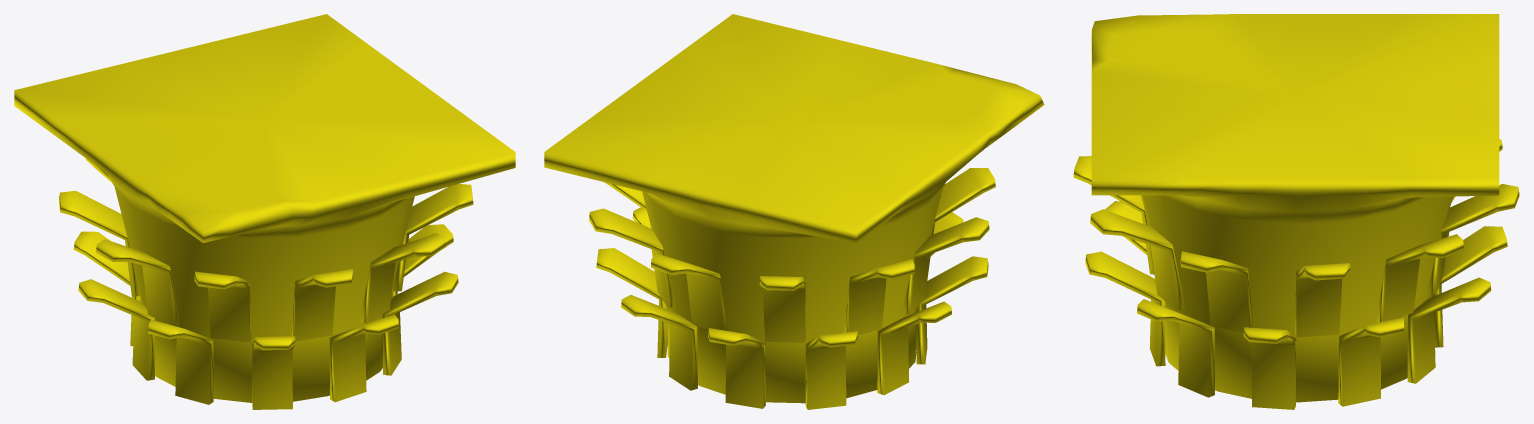
The model's file is Pillar_01C_Lod0.fbx.
3 renders of one model, left to right at view 1: azimuth 30°, elevation 25°; view 2: azimuth 150°, elevation 25°; view 3: azimuth 270°, elevation 25°, orthographic. The views are drawn at different scales.
Parts seen in each view (by area): view 1: Pillar_01C_Lod0; view 2: Pillar_01C_Lod0; view 3: Pillar_01C_Lod0.
Boxes of the visible parts, <box> form: Pillar_01C_Lod0: <box>14,14,515,409</box>; Pillar_01C_Lod0: <box>544,14,1044,409</box>; Pillar_01C_Lod0: <box>1073,14,1519,409</box>.
Bounding box in the file's own units: 405 × 251 × 405.
